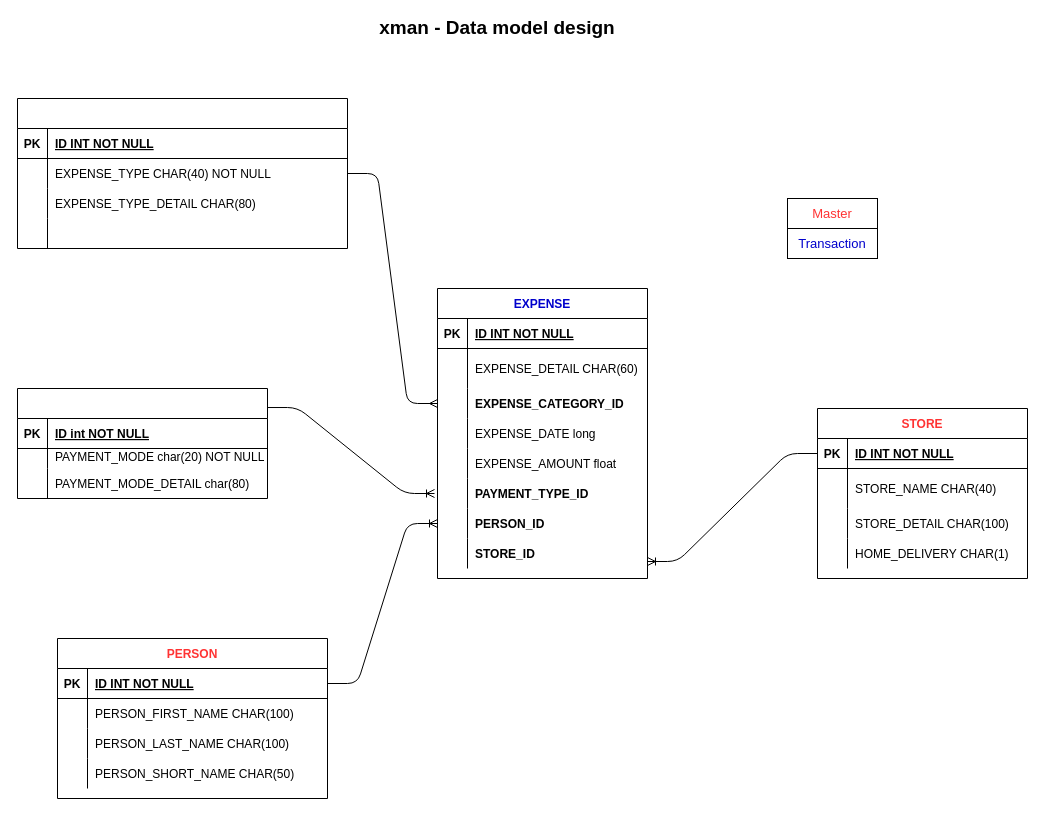
The diagram is 1045 pixels wide and 816 high, and some of its shapes have lost their labels. Each missing label, with the box of its shape:
EXPENSE_CATERGORY: (16, 98, 348, 248)
PAYMENT_TYPE: (16, 388, 268, 498)
